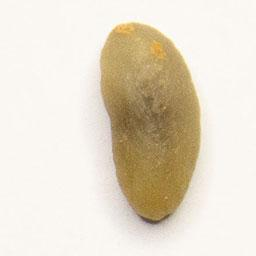longberry: (96, 19, 203, 225)
